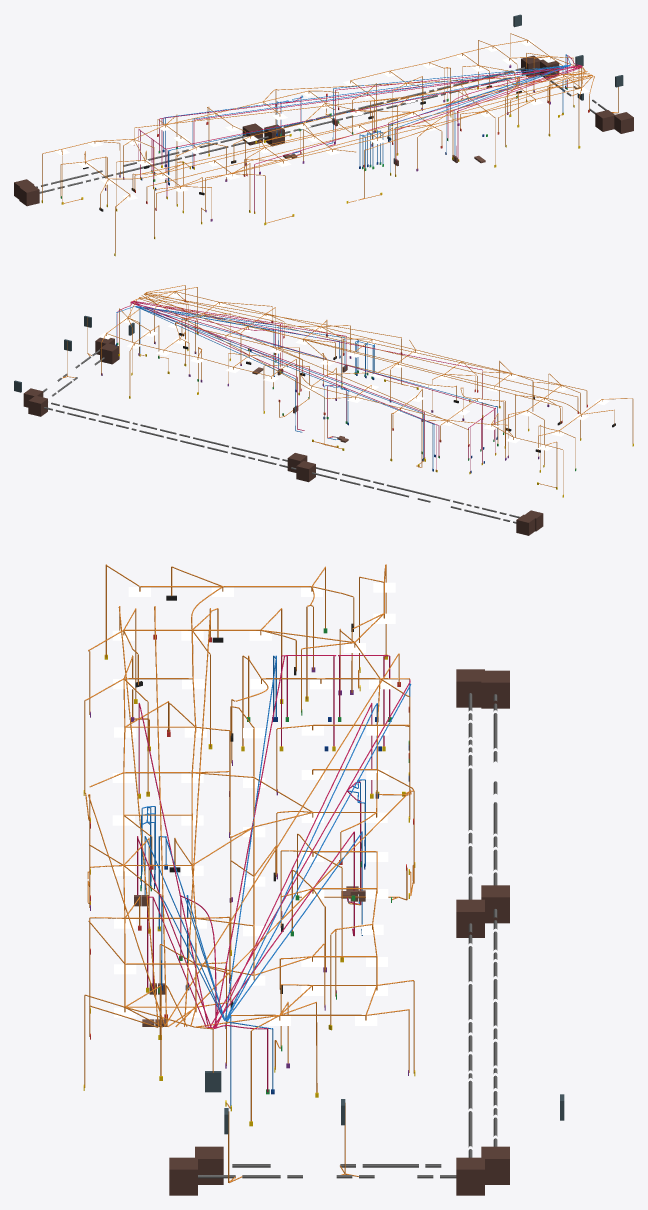
Rendered from eletrica-r1.glb.
3 views of the same model, one above another, from view 1: azimuth 30°, elevation 25°; view 2: azimuth 150°, elevation 25°; view 3: azimuth 270°, elevation 25° (orthographic). The views are drawn at different scales.
Visible parts, largest first — view 1: Eletrodutos · Elétrica, Eletrodutos · Rede estabilizada, Eletrodutos · Lógica (CAT6), Eletrodutos de piso · Elétrica, Caixa de passagem CX7, Caixa de passagem CX1, Caixa de passagem CX2, Caixa de passagem CX5; view 2: Eletrodutos · Elétrica, Eletrodutos · Rede estabilizada, Eletrodutos · Lógica (CAT6), Eletrodutos de piso · Elétrica; view 3: Eletrodutos · Elétrica, Eletrodutos · Rede estabilizada, Eletrodutos · Lógica (CAT6), Eletrodutos de piso · Elétrica, Caixa de passagem CX2, Caixa de passagem CX4, Caixa de passagem CX5, Caixa de passagem CX8, Caixa de passagem CX3, Caixa de passagem CX7, Caixa de passagem CX6, Caixa de passagem CX1.
Part boxes in pixels (box(x1,y1,x2,y2)): Eletrodutos · Elétrica: box(42, 33, 618, 253); Eletrodutos · Rede estabilizada: box(138, 55, 582, 212); Eletrodutos · Lógica (CAT6): box(163, 54, 570, 183); Eletrodutos de piso · Elétrica: box(36, 67, 606, 193); Caixa de passagem CX7: box(19, 184, 39, 206); Caixa de passagem CX1: box(595, 110, 614, 131); Caixa de passagem CX2: box(614, 112, 633, 133); Caixa de passagem CX5: box(264, 124, 284, 146); Eletrodutos · Elétrica: box(62, 285, 633, 494); Eletrodutos · Rede estabilizada: box(117, 301, 495, 472); Eletrodutos · Lógica (CAT6): box(116, 306, 497, 469); Eletrodutos de piso · Elétrica: box(43, 349, 519, 523); Eletrodutos · Elétrica: box(84, 564, 414, 1182); Eletrodutos · Rede estabilizada: box(137, 655, 410, 1092); Eletrodutos · Lógica (CAT6): box(141, 655, 411, 1108); Eletrodutos de piso · Elétrica: box(198, 693, 497, 1178); Caixa de passagem CX2: box(169, 1157, 197, 1195); Caixa de passagem CX4: box(456, 1157, 484, 1195); Caixa de passagem CX5: box(456, 899, 484, 937); Caixa de passagem CX8: box(481, 670, 509, 708); Caixa de passagem CX3: box(481, 1146, 509, 1184); Caixa de passagem CX7: box(456, 669, 484, 707); Caixa de passagem CX6: box(481, 885, 509, 923); Caixa de passagem CX1: box(195, 1146, 223, 1184).
Size of the model in its own units: 33.37 by 3.97 by 13.38.
